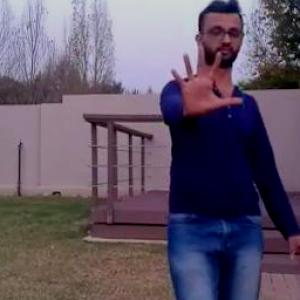follow_hand: (166, 42, 245, 122)
